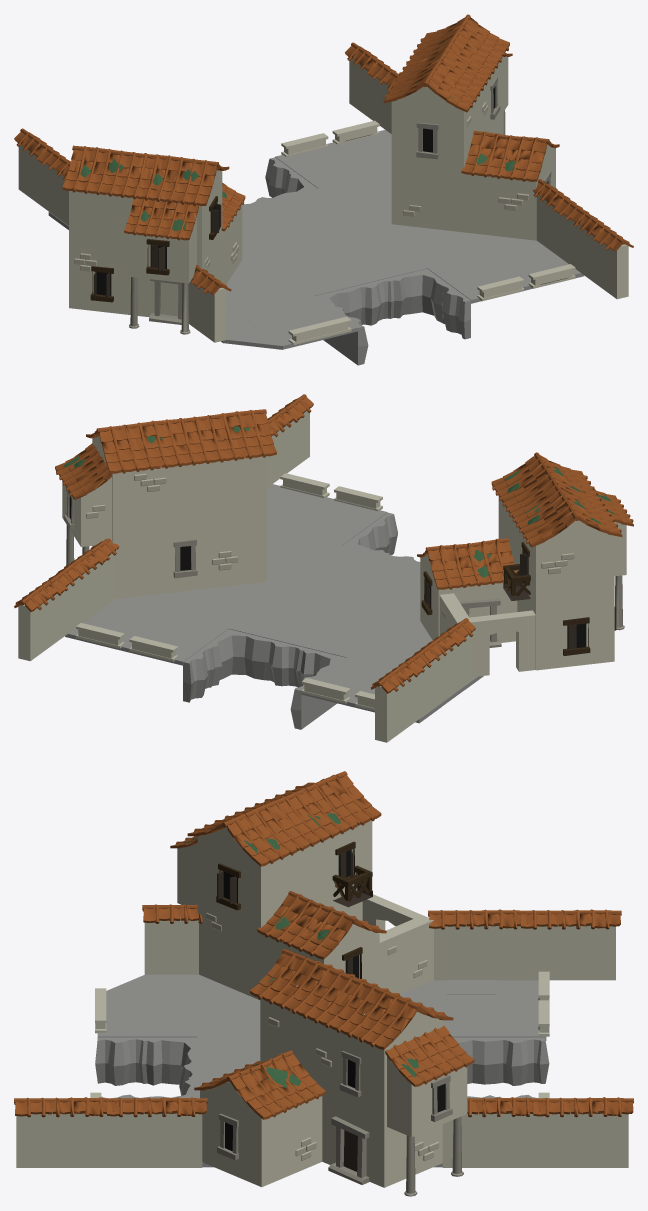
Rendered from RoomR6.fbx.
3 views of the same model, one above another, from view 1: azimuth 30°, elevation 25°; view 2: azimuth 150°, elevation 25°; view 3: azimuth 270°, elevation 25° (orthographic). The views are drawn at different scales.
Visible parts, largest first — view 1: R-R6; view 2: R-R6; view 3: R-R6.
Part boxes in pixels (x1,y1,x2,y2): R-R6: (14,14,633,365); R-R6: (14,394,633,742); R-R6: (14,771,633,1196).
Size of the model in its own units: 2774 by 1004 by 2620.
